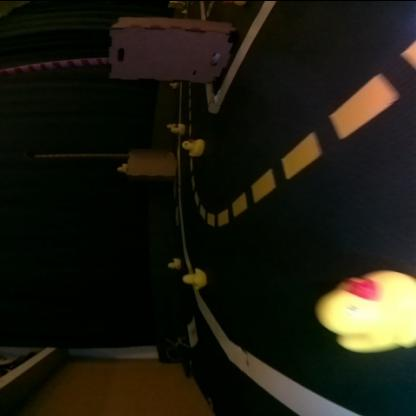Duckie: (316, 270, 414, 352), (182, 267, 206, 287), (181, 137, 205, 156), (172, 122, 186, 132), (168, 257, 180, 268), (116, 162, 126, 171)
